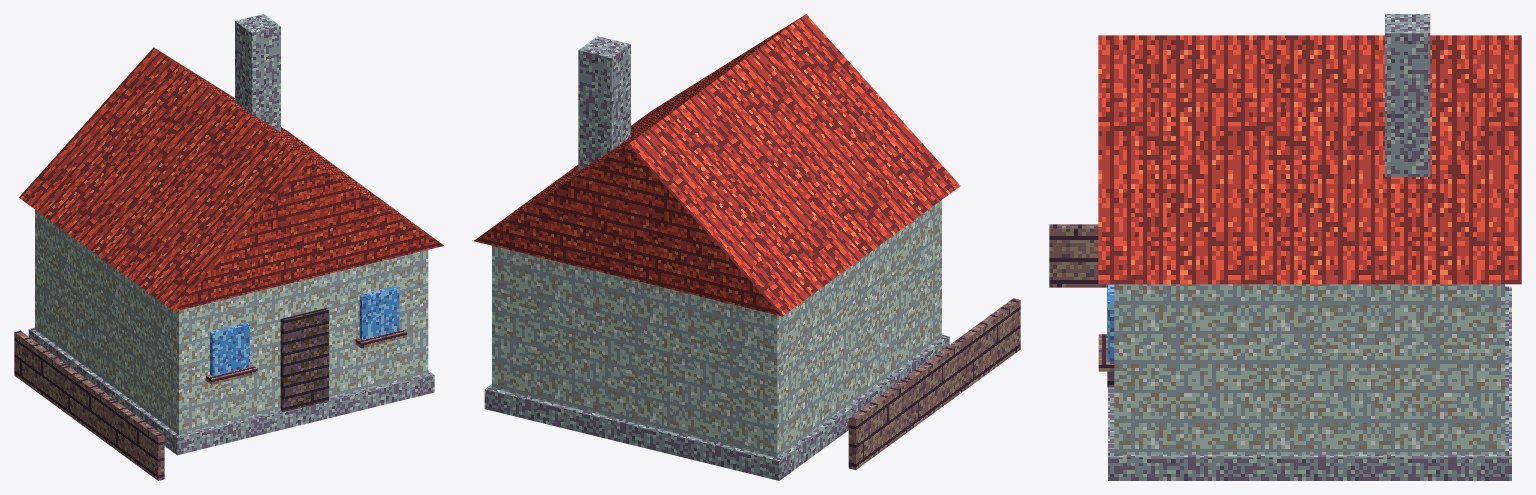
File: casa_heroi.glb
The picture shows the model from 3 angles, left to right: view 1: azimuth 30°, elevation 25°; view 2: azimuth 150°, elevation 25°; view 3: azimuth 270°, elevation 25°; orthographic projection. The views are drawn at different scales.
Parts seen in each view (by area): view 1: casa_heroi; view 2: casa_heroi; view 3: casa_heroi.
Boxes of the visible parts, x1,y1,x2,y2 form: casa_heroi: [14, 14, 443, 480]; casa_heroi: [473, 14, 1020, 480]; casa_heroi: [1049, 14, 1521, 480].
Bounding box in the file's own units: 7.32 × 7 × 7.25.
Materials: 6 (6 with a texture image).
